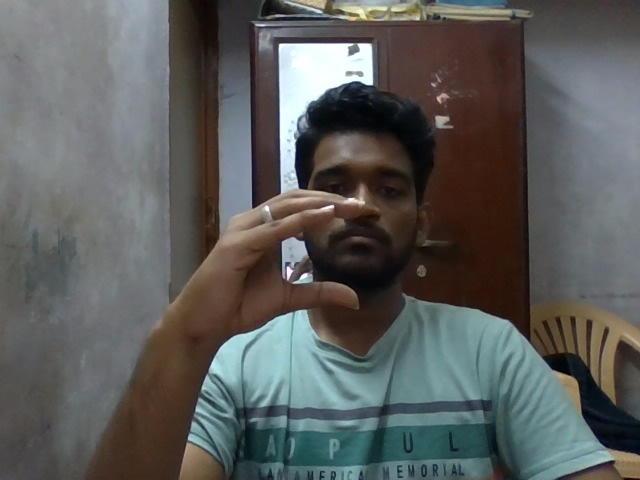C: (170, 181, 370, 354)
